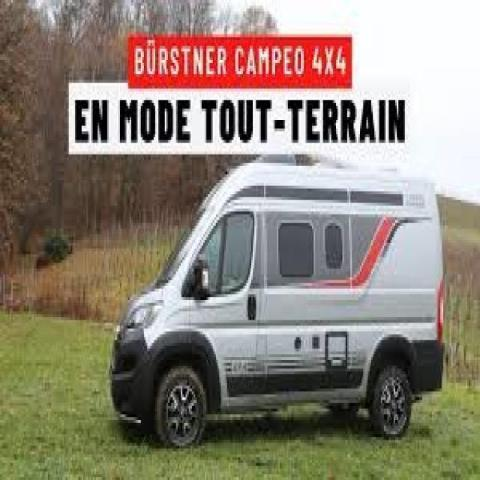van: (109, 154, 447, 450)
